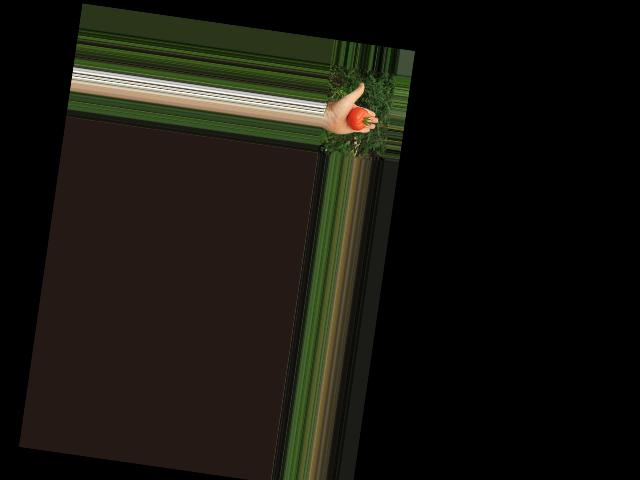tomato: (345, 105, 369, 132)
